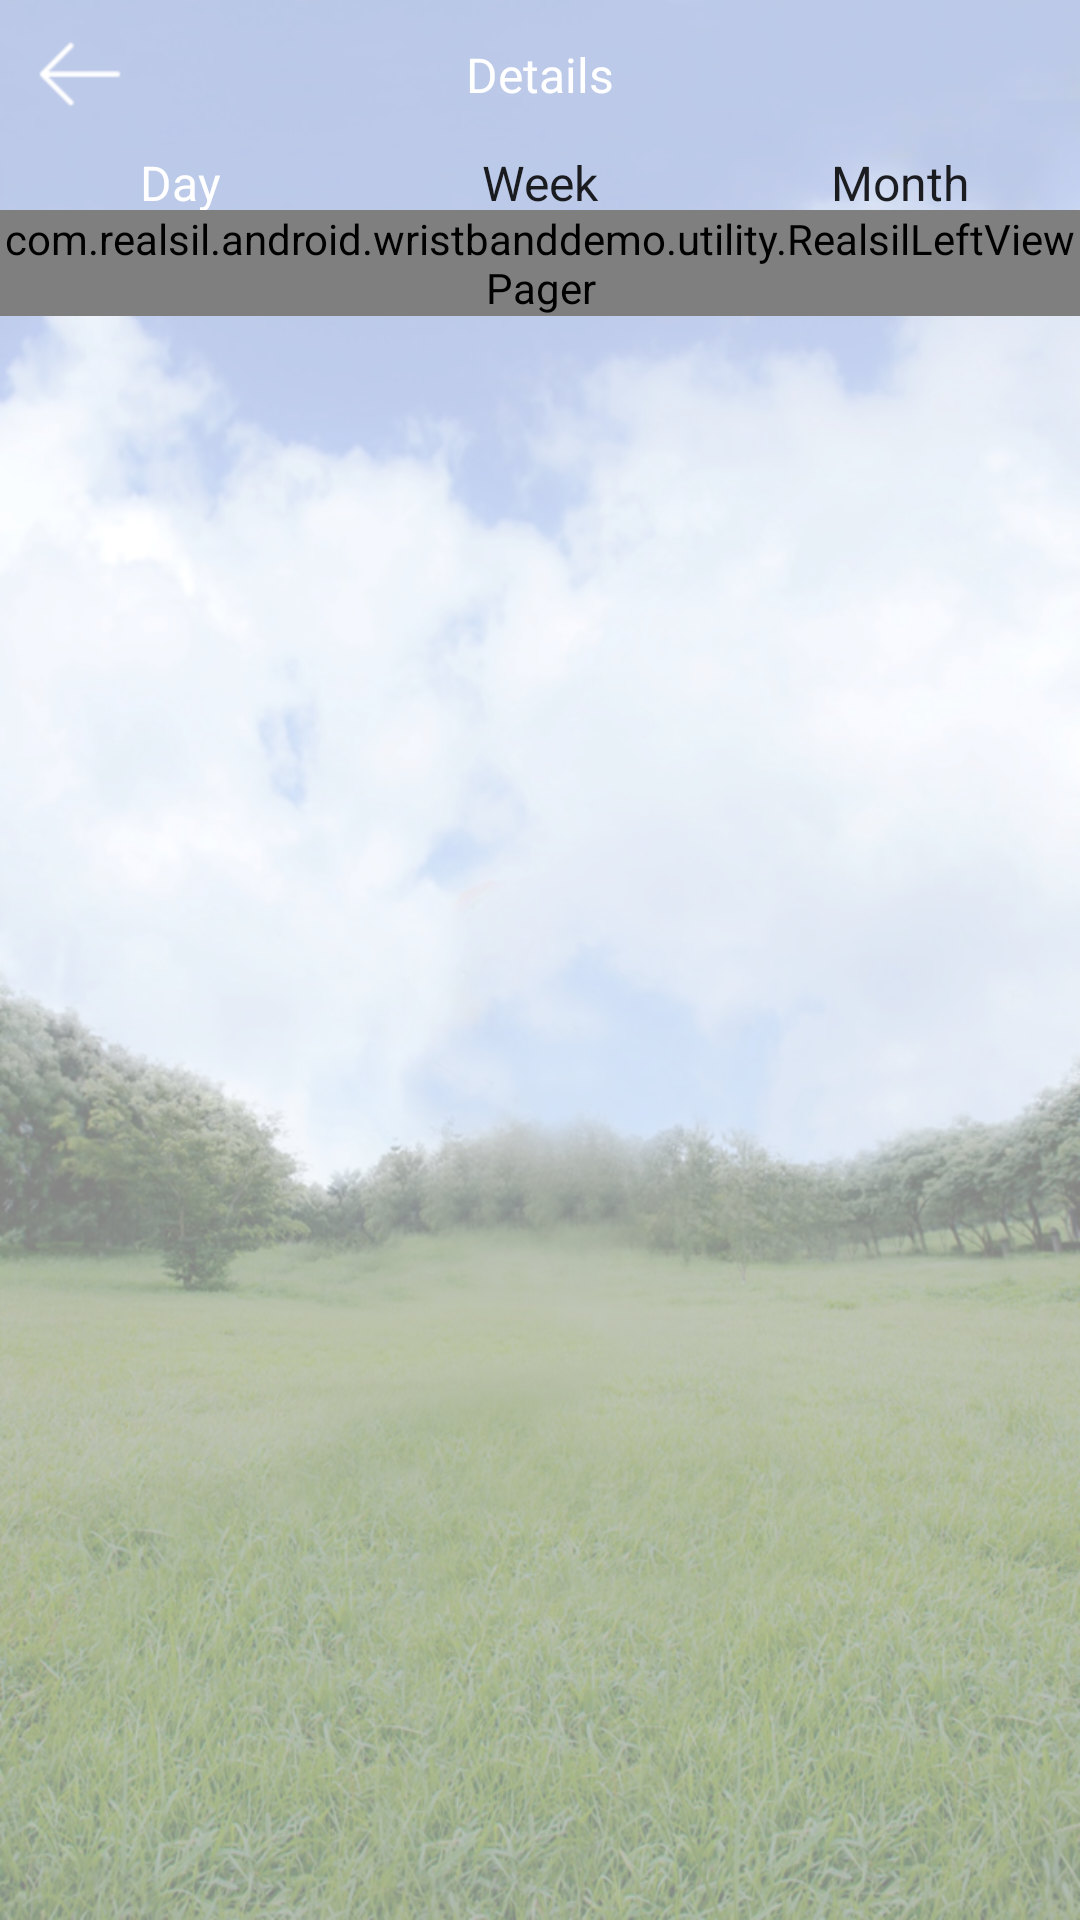

Screen size 1080w x 1920h. Icon name, then its center in pixels as (x,y):
back: (80,74)
